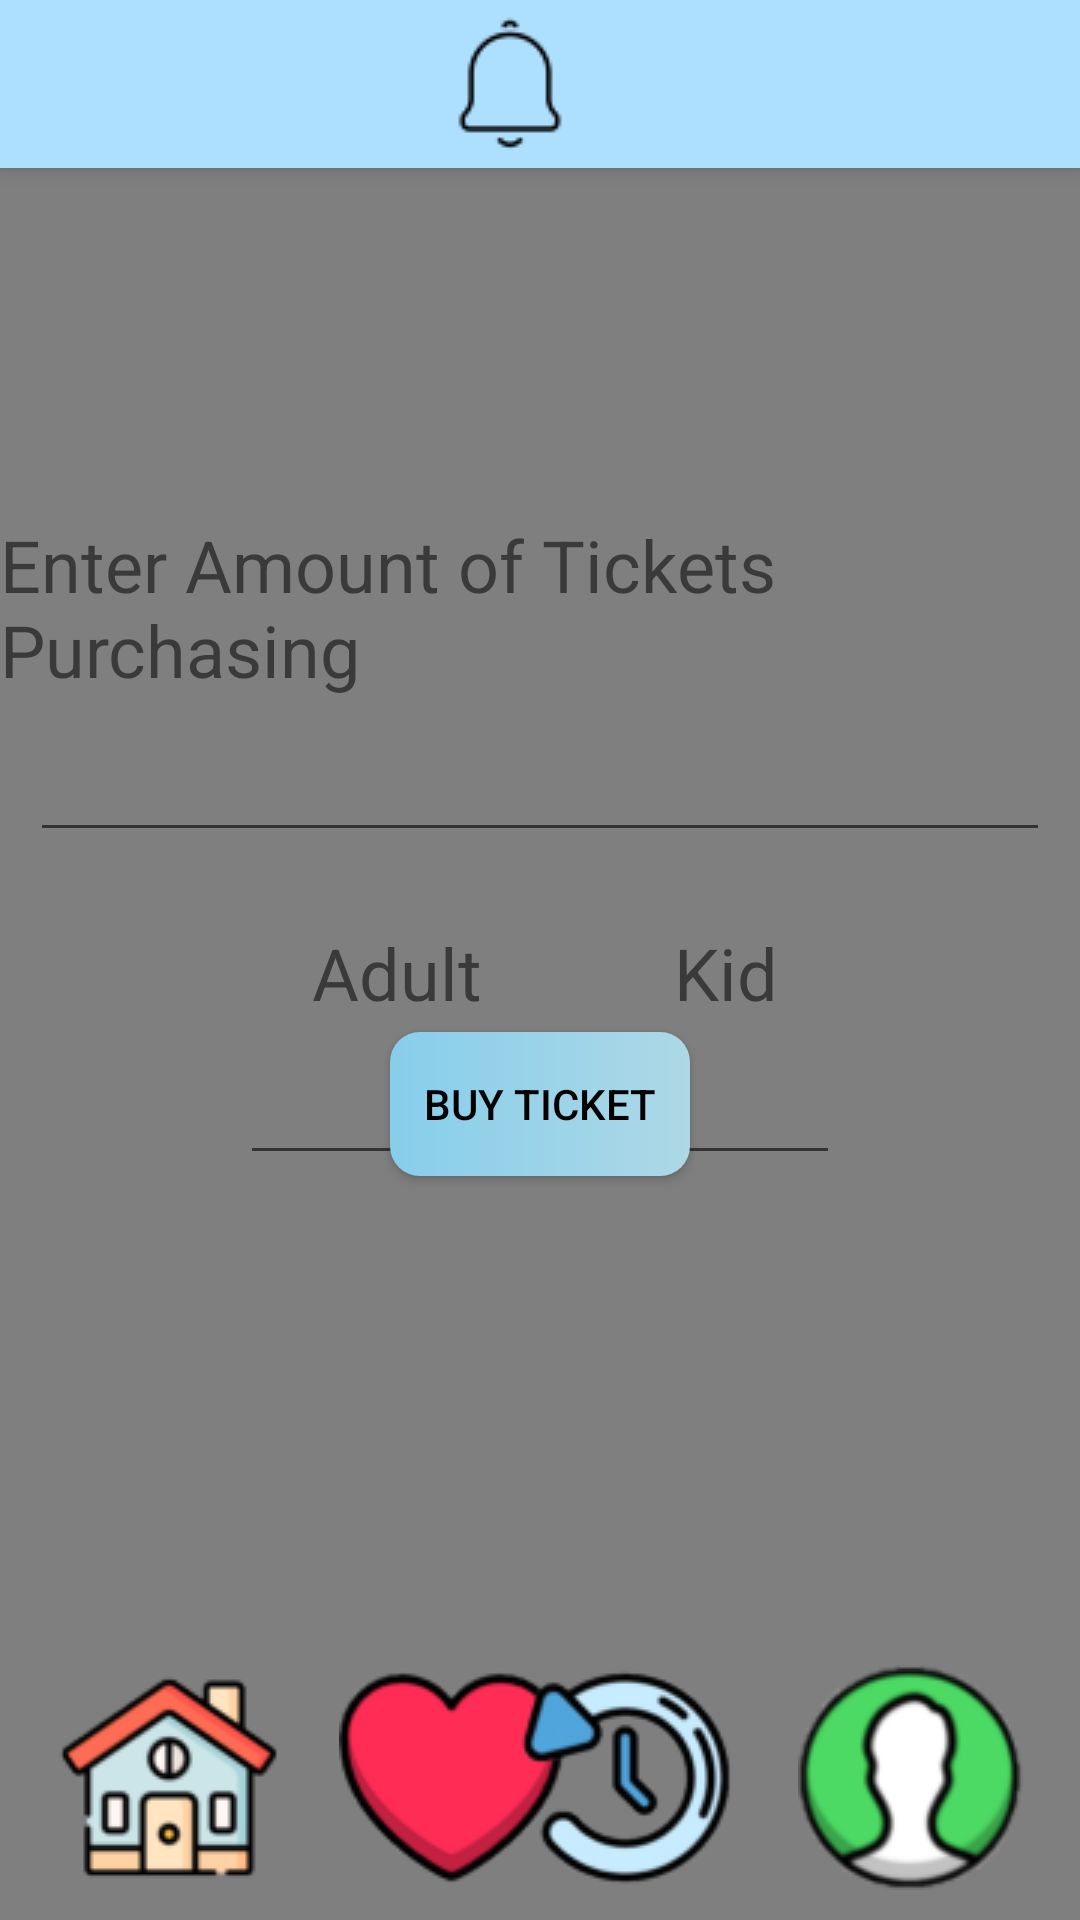

Locate icon controls on the screen. Image size 1080px x 1920px, boxes as (x1, y1, x2, y2).
heart: (339, 1673, 564, 1882)
history: (516, 1673, 730, 1882)
home: (62, 1679, 277, 1876)
notification: (458, 18, 562, 148)
profile: (798, 1667, 1021, 1888)
